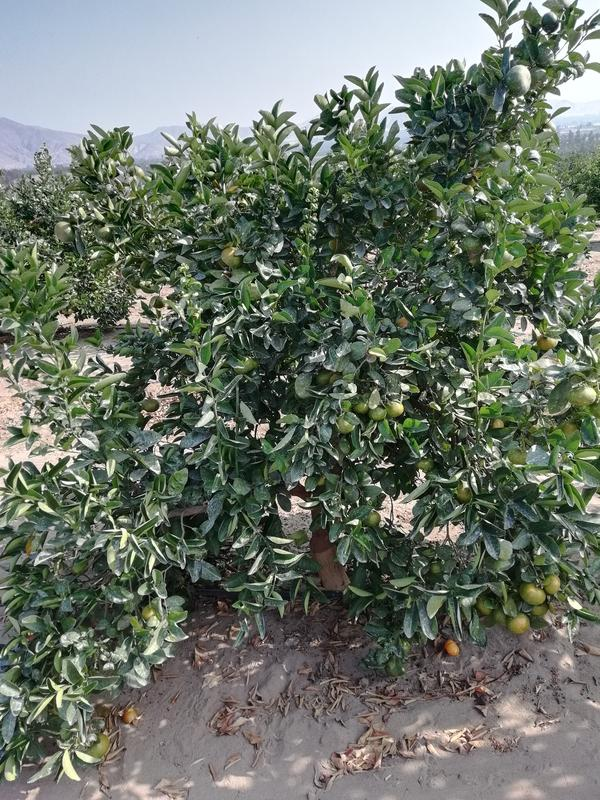mandarina verde: (506, 64, 532, 97), (520, 581, 546, 605), (567, 386, 596, 405), (508, 612, 530, 633), (543, 573, 562, 595), (55, 220, 73, 243), (386, 398, 404, 417), (542, 11, 558, 32), (139, 397, 160, 412), (372, 405, 387, 421)
